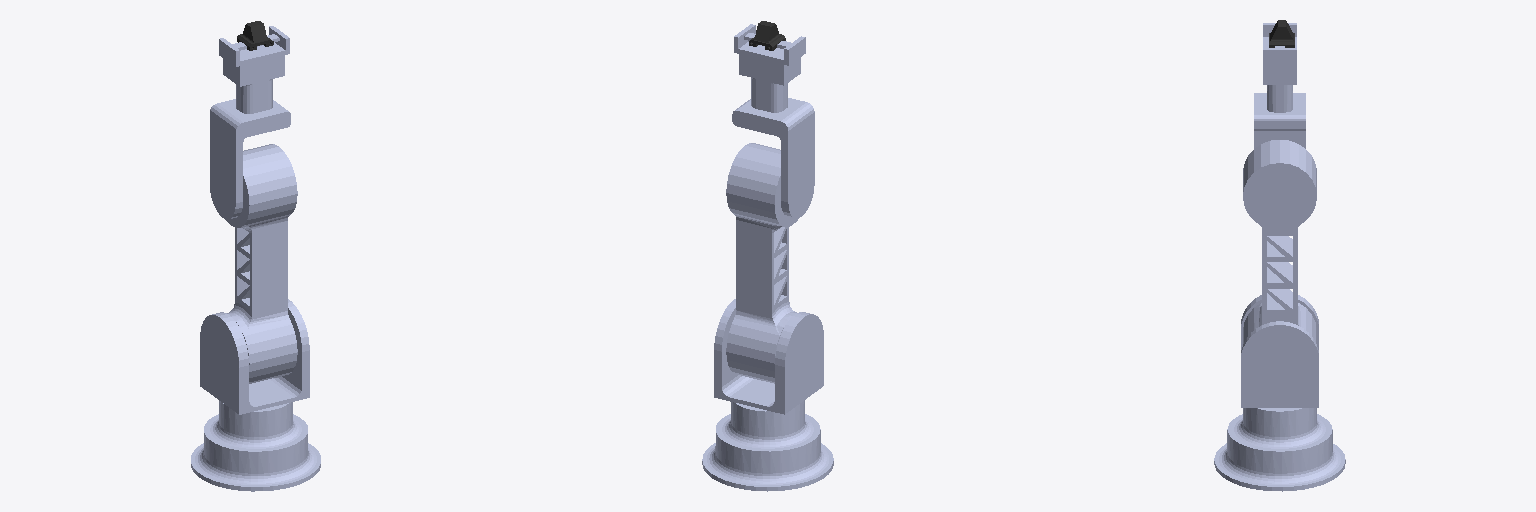
robot.urdf — nova_arm:
<?xml version="1.0" encoding="utf-8"?>
<!-- This URDF was automatically created by SolidWorks to URDF Exporter! Originally created by [author] ([email redacted]) 
     Commit Version: 1.6.0-4-g7f85cfe  Build Version: 1.6.7995.38578
     For more information, please see http://wiki.ros.org/sw_urdf_exporter -->
<robot
  name="nova_arm">
  <link
    name="base_link">
    <inertial>
      <origin
        xyz="0.0338 0.018286 -0.0073901"
        rpy="0 0 0" />
      <mass
        value="0.7735" />
      <inertia
        ixx="0.0010882"
        ixy="-9.4105E-36"
        ixz="-1.0943E-35"
        iyy="0.001303"
        iyz="-4.8065E-20"
        izz="0.0010882" />
    </inertial>
    <visual>
      <origin
        xyz="0 0 0"
        rpy="0 0 0" />
      <geometry>
        <mesh filename="package://nova_arm/meshes/base_link.STL"/>

      </geometry>
      <material
        name="">
        <color
          rgba="0.79216 0.81961 0.93333 1" />
      </material>
    </visual>
    <collision>
      <origin
        xyz="0 0 0"
        rpy="0 0 0" />
      <geometry>
        <mesh filename="package://nova_arm/meshes/base_link.STL"/>
      </geometry>
    </collision>
  </link>
  <link
    name="Link_1">
    <inertial>
      <origin
        xyz="1.3878E-17 0.046136 -0.0050286"
        rpy="0 0 0" />
      <mass
        value="0.23804" />
      <inertia
        ixx="0.00057347"
        ixy="-9.3723E-20"
        ixz="-8.8938E-21"
        iyy="0.00048732"
        iyz="9.6538E-06"
        izz="0.00037661" />
    </inertial>
    <visual>
      <origin xyz="0 0 0" rpy="1.5708 0 1.5708"/>
      <geometry><mesh filename="package://nova_arm/meshes/Link_1.STL"/></geometry>
      <material name=""><color rgba="0.79216 0.81961 0.93333 1"/></material>
    </visual>

    <collision>
      <origin xyz="0 0 0" rpy="1.5708 0 1.5708"/>
      <geometry><mesh filename="package://nova_arm/meshes/Link_1.STL"/></geometry>
    </collision>
  </link>
  <joint
    name="joint_1"
    type="revolute">
    <origin
      xyz="0 0  0.085"
      rpy="0 0 0" />
    <parent
      link="base_link" />
    <child
      link="Link_1" />
    <axis
      xyz="0 0 1" />
    <limit
      lower="-3.1416"
      upper="3.1416"
      effort="15"
      velocity="1" />
  </joint>
  <link
    name="Link_2">
    <inertial>
      <origin
        xyz="3.4326E-05 1.6537E-05 -0.099338"
        rpy="0 0 0" />
      <mass
        value="0.86019" />
      <inertia
        ixx="0.0080287"
        ixy="2.0422E-07"
        ixz="1.3058E-06"
        iyy="0.0081005"
        iyz="2.0024E-06"
        izz="0.00062811" />
    </inertial>
    <visual>
      <origin xyz="0 0 0" rpy="1.5708 0 -1.5708"/>
      <geometry><mesh filename="package://nova_arm/meshes/Link_2.STL"/></geometry>
      <material name=""><color rgba="0.79216 0.81961 0.93333 1"/></material>
    </visual>

    <collision>
      <origin xyz="0 0 0" rpy="1.5708 0 -1.5708"/>
      <geometry><mesh filename="package://nova_arm/meshes/Link_2.STL"/></geometry>
    </collision>
  </link>
  <joint
    name="joint_2"
    type="revolute">
    <origin
      xyz="0 0 0.066"
      rpy="0 -1.5708 0" />
    <parent
      link="Link_1" />
    <child
      link="Link_2" />
    <axis
      xyz="0 0 1" />
    <limit
      lower="-1.919"
      upper="1.919"
      effort="12"
      velocity="1" />
  </joint>
  <link
    name="Link_3">
    <inertial>
      <origin
        xyz="0.10227 0.012019 -1.8999E-09"
        rpy="0 0 0" />
      <mass
        value="0.27991" />
      <inertia
        ixx="0.00019399"
        ixy="0.00017687"
        ixz="1.3143E-11"
        iyy="0.00079147"
        iyz="-2.5241E-11"
        izz="0.00087188" />
    </inertial>
    <visual>
      <origin xyz="0 0 0" rpy="1.5708  0 0"/>
      <geometry><mesh filename="package://nova_arm/meshes/Link_3.STL"/></geometry>
      <material name=""><color rgba="0.79216 0.81961 0.93333 1"/></material>
    </visual>

    <collision>
      <origin xyz="0 0 0" rpy="1.5708  0 0"/>
      <geometry><mesh filename="package://nova_arm/meshes/Link_3.STL"/></geometry>
    </collision>
  </link>
  <joint
    name="joint_3"
    type="revolute">
    <origin
      xyz="0.20 0 0" 
      rpy="0 0 0"/>  
    <parent
      link="Link_2" />
    <child
      link="Link_3" />
    <axis
      xyz="0 0 1" />
    <limit
      lower="-2.332"
      upper="2.332"
      effort="10"
      velocity="1.5" />
  </joint>
  <link
    name="Link_4">
    <inertial>
      <origin
        xyz="-0.006593 0.012575 0.013127"
        rpy="0 0 0" />
      <mass
        value="0.0054854" />
      <inertia
        ixx="5.575E-07"
        ixy="-5.7528E-17"
        ixz="-5.3784E-08"
        iyy="3.2259E-07"
        iyz="1.0413E-16"
        izz="4.0861E-07" />
    </inertial>
    <visual>
      <origin
        xyz="0 0 0"
        rpy="0 0 0" />
      <geometry>
        <mesh
          filename="package://nova_arm/meshes/Link_4.STL" />
      </geometry>
      <material
        name="">
        <color
          rgba="0.25098 0.25098 0.25098 1" />
      </material>
    </visual>
    <collision>
      <origin
        xyz="0 0 0"
        rpy="0 0 0" />
      <geometry>
        <mesh
          filename="package://nova_arm/meshes/Link_4.STL" />
      </geometry>
    </collision>
  </link>
  <joint
    name="joint_4"
    type="prismatic">
    <origin
      xyz="0.17556 0.0027305 -0.012575"
      rpy="1.5708 0 1.5708" />
    <parent
      link="Link_3" />
    <child
      link="Link_4" />
    <axis
      xyz="-1 0 0" />
    <limit
      lower="0"
      upper="0.014"
      effort="50"
      velocity="0.02" />
  </joint>
  <link
    name="Link_5">
    <inertial>
      <origin
        xyz="-0.006593 0.012575 0.013127"
        rpy="0 0 0" />
      <mass
        value="0.0054854" />
      <inertia
        ixx="5.575E-07"
        ixy="-5.7303E-17"
        ixz="-5.3784E-08"
        iyy="3.2259E-07"
        iyz="1.058E-16"
        izz="4.0861E-07" />
    </inertial>
    <visual>
      <origin
        xyz="0 0 0"
        rpy="0 0 0" />
      <geometry>
        <mesh
          filename="package://nova_arm/meshes/Link_5.STL" />
      </geometry>
      <material
        name="">
        <color
          rgba="0.25098 0.25098 0.25098 1" />
      </material>
    </visual>
    <collision>
      <origin
        xyz="0 0 0"
        rpy="0 0 0" />
      <geometry>
        <mesh
          filename="package://nova_arm/meshes/Link_5.STL" />
      </geometry>
    </collision>
  </link>
  <joint
    name="joint_5"
    type="prismatic">
    <origin
      xyz="0.17556 0.0018695 0.012575"
      rpy="-1.5708 0 -1.5708" />
    <parent
      link="Link_3" />
    <child
      link="Link_5" />
    <axis
      xyz=" 1 0 0" />
    <limit
      lower="-0.014"
      upper="0"
      effort="50"
      velocity="0.02" />
  </joint>

    <ros2_control name="nova_arm_system" type="system">
    <hardware>
      <plugin>gz_ros2_control/GazeboSystem</plugin>
    </hardware>

    <joint name="joint_1">
      <command_interface name="position"/>
      <state_interface name="position"/>
      <state_interface name="velocity"/>
    </joint>
    <joint name="joint_2">
      <command_interface name="position"/>
      <state_interface name="position"/>
      <state_interface name="velocity"/>
    </joint>
    <joint name="joint_3">
      <command_interface name="position"/>
      <state_interface name="position"/>
      <state_interface name="velocity"/>
    </joint>
    <joint name="joint_4">
      <command_interface name="position"/>
      <state_interface name="position"/>
      <state_interface name="velocity"/>
    </joint>
    <joint name="joint_5">
      <command_interface name="position"/>
      <state_interface name="position"/>
      <state_interface name="velocity"/>
    </joint>
  </ros2_control>

</robot>

--- Render facts (derived) ---
3 views of the same robot in one strip: view 1: azimuth 30°, elevation 25°; view 2: azimuth 150°, elevation 25°; view 3: azimuth 270°, elevation 25° (orthographic).
Model nova_arm with 6 links and 5 joints (3 revolute, 2 prismatic), rooted at base_link, posed every joint at zero.
Links seen in each view (by area): view 1: Link_2, base_link, Link_3, Link_1; view 2: Link_2, base_link, Link_3, Link_1; view 3: Link_2, base_link, Link_1, Link_3.
Link boxes in pixels (x1=…): Link_2: x1=225, y1=144, x2=297, y2=383; base_link: x1=191, y1=401, x2=320, y2=491; Link_3: x1=210, y1=26, x2=290, y2=218; Link_1: x1=200, y1=299, x2=309, y2=414; Link_2: x1=726, y1=143, x2=798, y2=383; base_link: x1=702, y1=400, x2=833, y2=491; Link_3: x1=732, y1=24, x2=814, y2=218; Link_1: x1=714, y1=299, x2=823, y2=414; Link_2: x1=1243, y1=140, x2=1316, y2=343; base_link: x1=1214, y1=408, x2=1345, y2=491; Link_1: x1=1241, y1=295, x2=1318, y2=407; Link_3: x1=1254, y1=23, x2=1305, y2=148.
Size in the robot's own frame: 0.1499 by 0.15 by 0.5547 metres.
Meshes: 6 distinct files referenced, 6 mesh visuals loaded (6 binary STL).